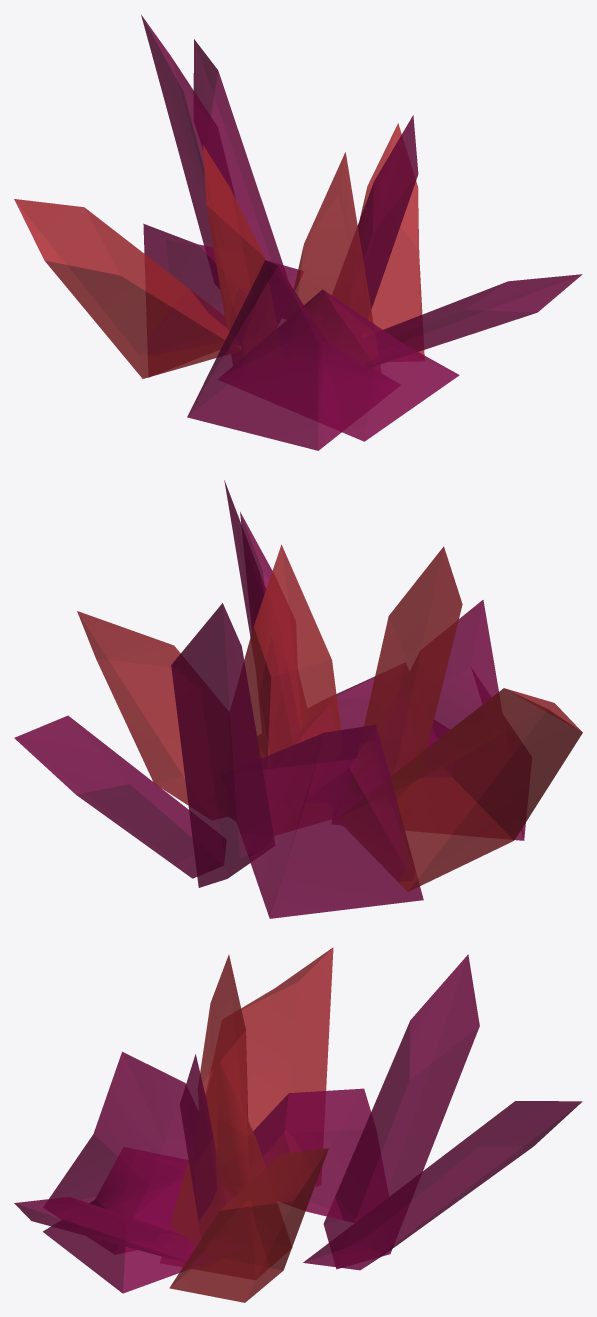
File: Shards02.fbx
3 renders of one model, top to bottom at view 1: azimuth 30°, elevation 25°; view 2: azimuth 150°, elevation 25°; view 3: azimuth 270°, elevation 25°, orthographic. The views are drawn at different scales.
Parts seen in each view (by area): view 1: polySurface40; view 2: polySurface40; view 3: polySurface40.
Part boxes in pixels (x1=…): polySurface40: x1=14, y1=14, x2=582, y2=450; polySurface40: x1=14, y1=480, x2=582, y2=918; polySurface40: x1=14, y1=947, x2=582, y2=1302.
Size of the model in its own units: 10.63 by 7.11 by 12.87.
